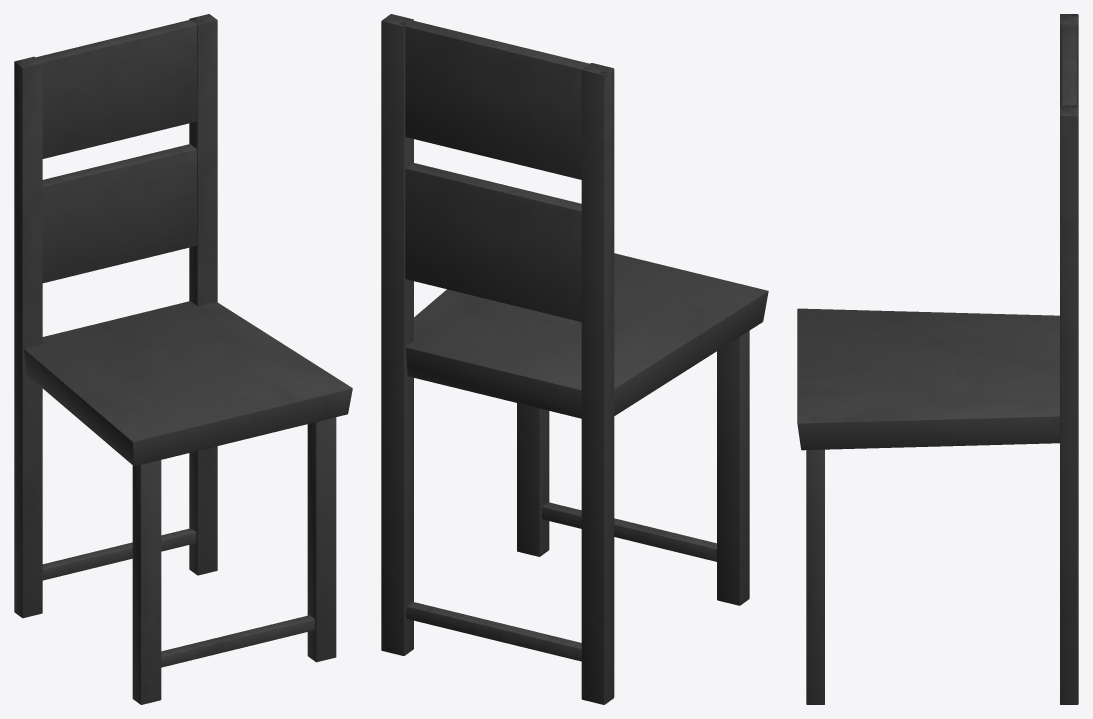
File: CadeiraDeMetal.fbx
3 renders of one model, left to right at view 1: azimuth 30°, elevation 25°; view 2: azimuth 150°, elevation 25°; view 3: azimuth 270°, elevation 25°, orthographic. The views are drawn at different scales.
Parts seen in each view (by area): view 1: Cadeira2; view 2: Cadeira2; view 3: Cadeira2.
Part boxes in pixels (x1=…): Cadeira2: x1=14, y1=14, x2=352, y2=704; Cadeira2: x1=381, y1=14, x2=768, y2=704; Cadeira2: x1=797, y1=14, x2=1078, y2=704.
Size of the model in its own units: 42.75 by 102 by 44.15.
